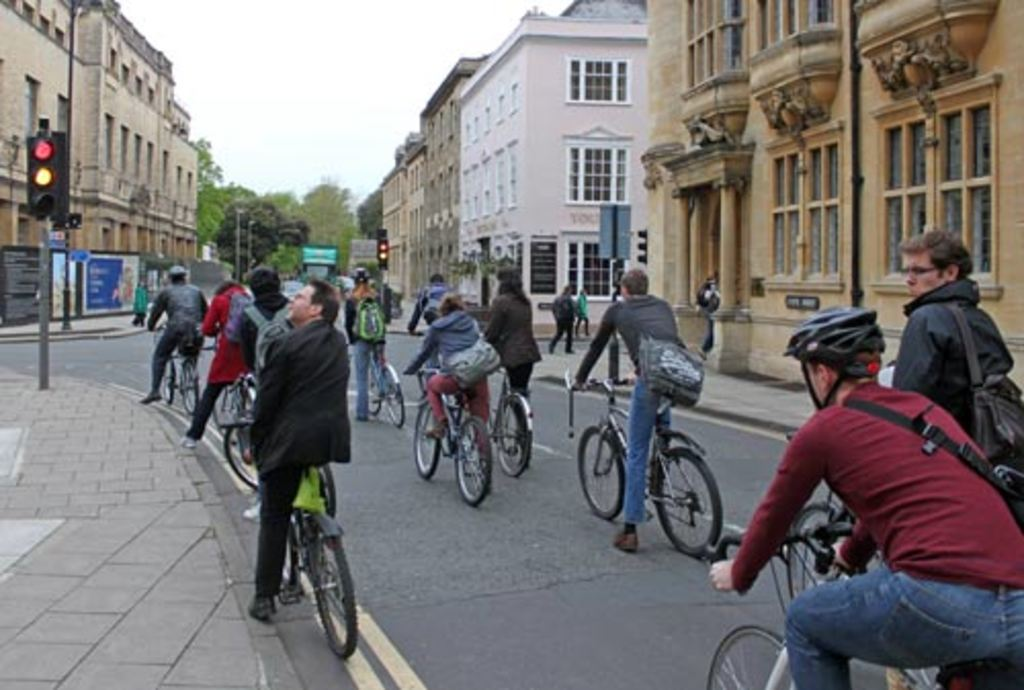Bike: (239, 413, 382, 667), (561, 365, 729, 559), (403, 360, 494, 506), (146, 316, 204, 412), (350, 335, 408, 428)
